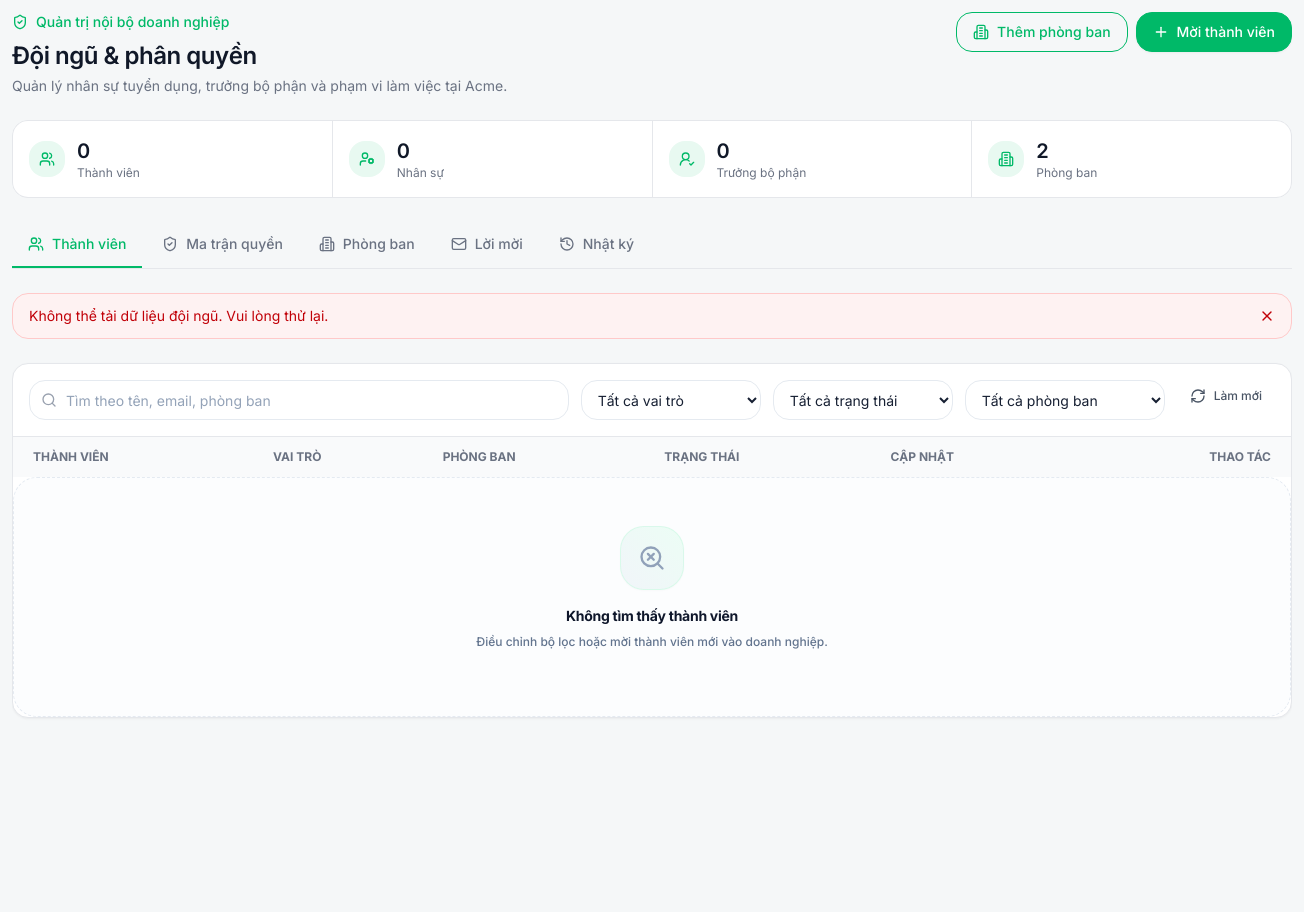
Test: EmployerTeamPage › keeps an actionable retry path when loading the team fails
Expected: the message shows "Không thể tải dữ liệu đội ngũ", [29, 307, 328, 324]
Click the button "Làm mới": (1226, 396) [1177, 380, 1275, 412]
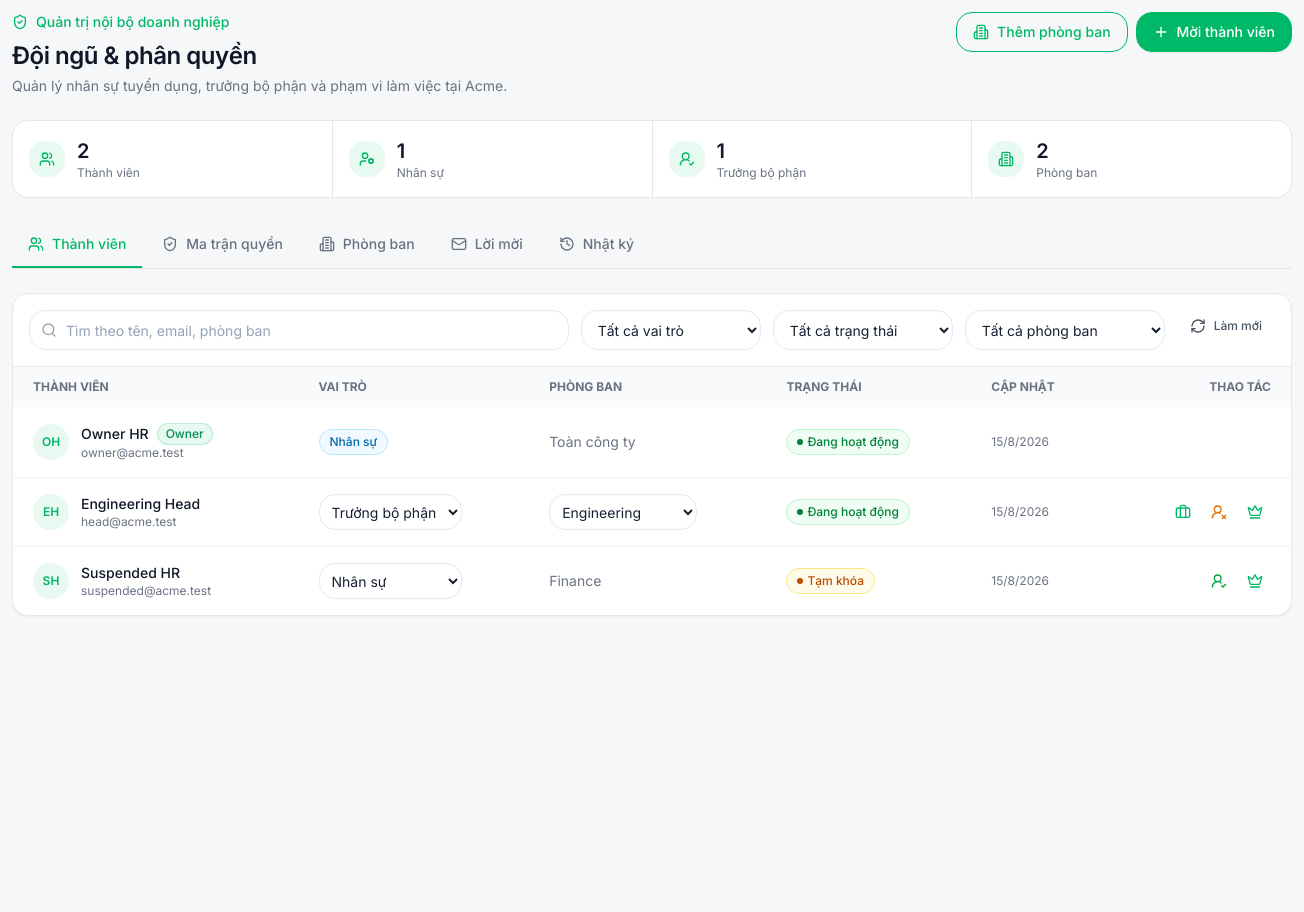
Now the text "Engineering Head" is shown, box [81, 494, 200, 514]
